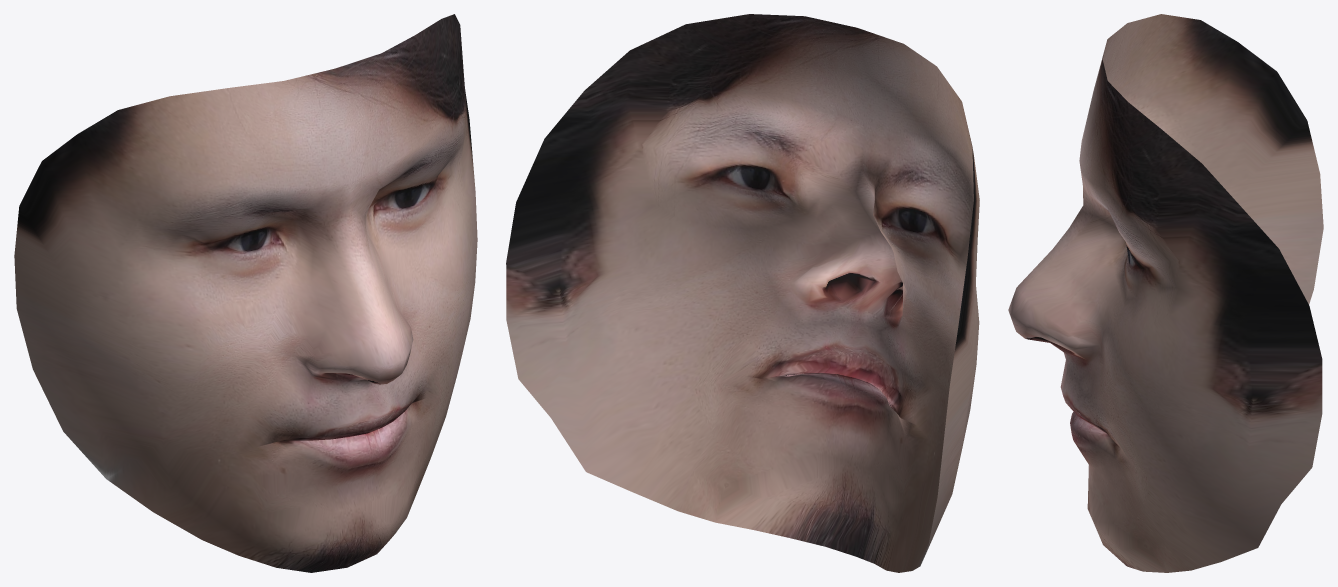
The model's file is matnguoi.obj.
The picture shows the model from 3 angles, left to right: view 1: azimuth 30°, elevation 25°; view 2: azimuth 150°, elevation 25°; view 3: azimuth 270°, elevation 25°; orthographic projection. The views are drawn at different scales.
Visible parts, largest first — view 1: 20190819_164744; view 2: 20190819_164744; view 3: 20190819_164744.
Boxes of the visible parts, x1,y1,x2,y2 form: 20190819_164744: (14,14,477,572); 20190819_164744: (506,14,979,572); 20190819_164744: (1008,14,1323,572).
Bounding box in the file's own units: 0.1568 × 0.175 × 0.103.
